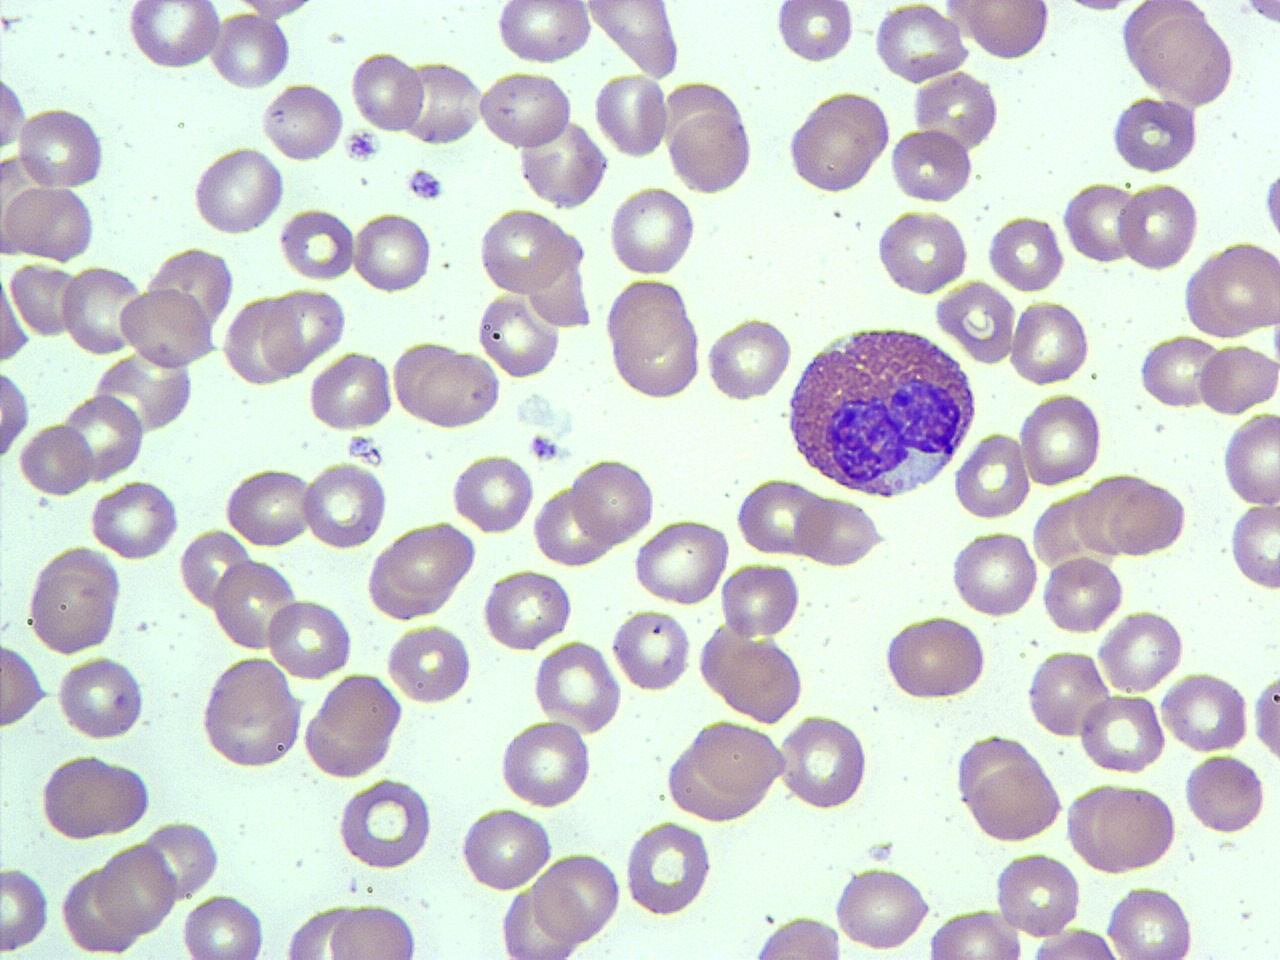Platelets: (1260, 162, 1280, 248), (404, 166, 446, 203), (528, 432, 566, 465), (344, 127, 379, 162), (345, 433, 376, 455)
RBC: (602, 278, 706, 400), (198, 658, 306, 770), (24, 544, 123, 658), (303, 672, 402, 781), (786, 93, 890, 196), (38, 752, 155, 840), (880, 613, 988, 703), (476, 206, 582, 295), (335, 776, 435, 870), (779, 711, 871, 812), (632, 516, 731, 608), (624, 817, 714, 918), (1138, 14, 1236, 106), (190, 145, 285, 239), (532, 848, 623, 946), (457, 806, 556, 894), (497, 718, 595, 808), (831, 866, 933, 952), (606, 185, 698, 277), (948, 527, 1040, 621), (517, 117, 608, 212), (874, 209, 972, 296), (1018, 389, 1104, 489), (531, 638, 622, 732), (116, 286, 216, 371), (212, 556, 298, 652), (1089, 781, 1177, 874), (53, 653, 147, 742), (992, 848, 1083, 938), (15, 103, 108, 192), (302, 458, 390, 552), (479, 566, 573, 652), (96, 838, 179, 936), (703, 315, 794, 403), (1116, 179, 1200, 274), (479, 68, 575, 150), (968, 762, 1065, 844), (568, 455, 656, 546), (1159, 668, 1251, 754), (59, 263, 145, 356), (690, 719, 786, 802), (1024, 647, 1110, 739), (65, 388, 146, 484), (384, 620, 473, 708), (720, 634, 806, 724), (873, 2, 969, 83), (259, 285, 346, 374), (1006, 298, 1092, 388), (223, 464, 313, 549), (477, 292, 563, 380), (1096, 608, 1184, 694), (668, 107, 754, 196), (911, 68, 1001, 152), (402, 56, 484, 149), (2, 184, 98, 262), (1039, 552, 1127, 637), (90, 478, 181, 560), (587, 0, 682, 78), (220, 295, 300, 387), (953, 429, 1032, 522), (1103, 882, 1197, 960), (307, 348, 393, 434), (934, 278, 1016, 368), (407, 350, 500, 429), (260, 80, 346, 164), (1079, 692, 1167, 774), (610, 606, 692, 694), (265, 598, 354, 680), (449, 451, 534, 534), (1110, 94, 1198, 174), (208, 8, 292, 92), (1201, 241, 1279, 332), (592, 69, 668, 160), (1183, 752, 1267, 836), (352, 210, 432, 295), (384, 520, 477, 594), (888, 126, 974, 206), (350, 48, 427, 136), (124, 0, 223, 69), (792, 494, 885, 567), (720, 560, 800, 642), (389, 336, 466, 423), (986, 212, 1066, 293), (1062, 179, 1138, 266), (1136, 333, 1222, 408), (1105, 478, 1185, 557), (494, 0, 592, 65), (1197, 341, 1277, 418), (15, 419, 93, 499), (278, 205, 355, 283), (180, 891, 268, 960), (952, 0, 1051, 61), (8, 259, 82, 339), (1222, 410, 1280, 506), (327, 902, 420, 960), (773, 0, 855, 66), (926, 907, 1024, 959), (1228, 502, 1280, 592), (0, 864, 51, 953), (0, 638, 47, 730), (748, 914, 846, 958), (284, 904, 360, 960), (1026, 927, 1128, 960), (1250, 662, 1280, 767), (0, 362, 30, 466), (0, 68, 27, 159)
WBC: (779, 316, 981, 504), (199, 657, 306, 768), (41, 752, 155, 841)
